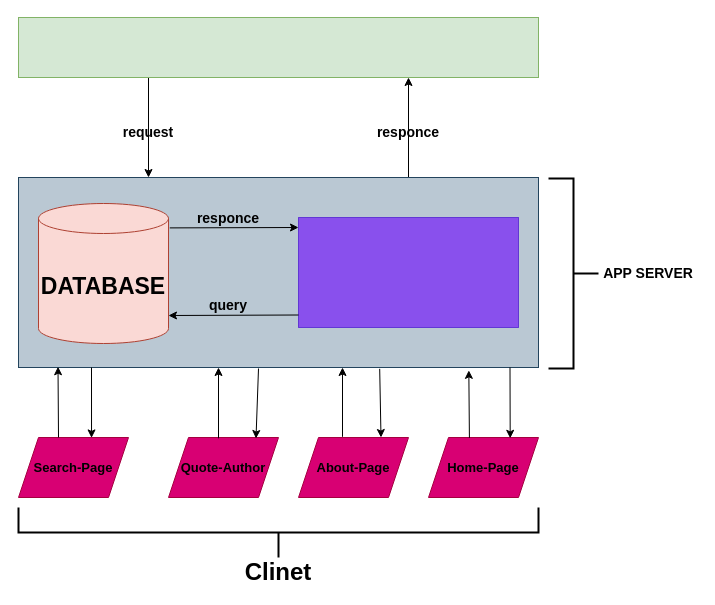
Some shapes in this 715 by 605 pixel diagram are drawn without their labels. Here are the shapes that lost their labels. From the top down, the centre of each, then its label:
At pixel 278 47: "API".
At pixel 408 272: "Flask-App".
